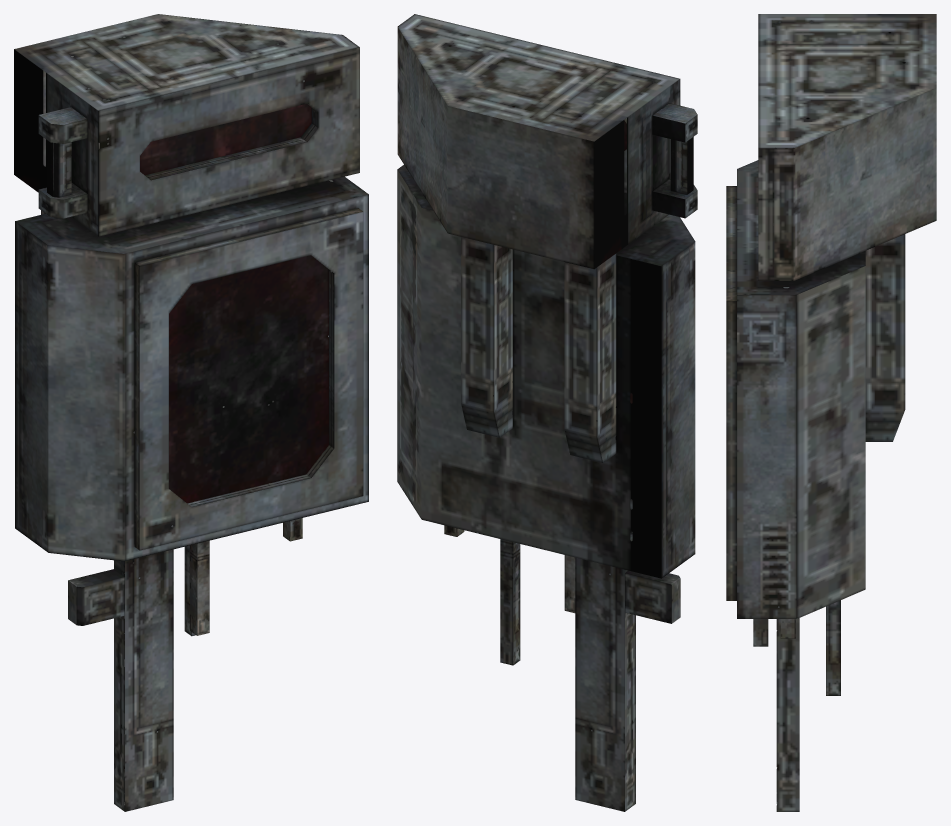
File: panel_slidedoor_medium.dae
3 views of the same model, side by side, from view 1: azimuth 30°, elevation 25°; view 2: azimuth 150°, elevation 25°; view 3: azimuth 270°, elevation 25° (orthographic). The views are drawn at different scales.
Parts seen in each view (by area): view 1: panel_slidedoor_medium; view 2: panel_slidedoor_medium; view 3: panel_slidedoor_medium.
Boxes of the visible parts, bbox=[...] form: panel_slidedoor_medium: bbox=[14, 14, 368, 811]; panel_slidedoor_medium: bbox=[397, 14, 697, 811]; panel_slidedoor_medium: bbox=[726, 14, 936, 811].
Size of the model in its own units: 0.4082 by 0.95 by 0.24.
